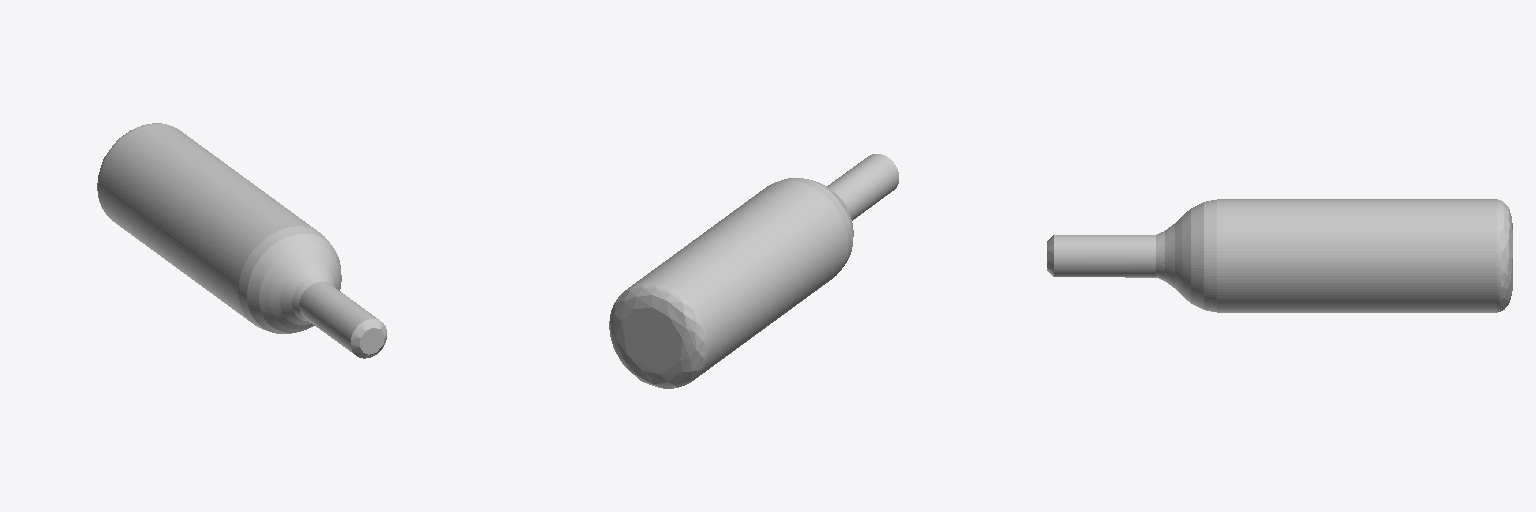
Rendered from realbottle.obj.
3 views of the same model, side by side, from view 1: azimuth 30°, elevation 25°; view 2: azimuth 150°, elevation 25°; view 3: azimuth 270°, elevation 25° (orthographic).
Visible parts, largest first — view 1: bottle; view 2: bottle; view 3: bottle.
Boxes of the visible parts, box(x1,y1,x2,y2) form: bottle: box(97, 123, 386, 358); bottle: box(609, 154, 898, 388); bottle: box(1047, 199, 1512, 312).
Bounding box in the file's own units: 0.0731 × 0.0731 × 0.3006.